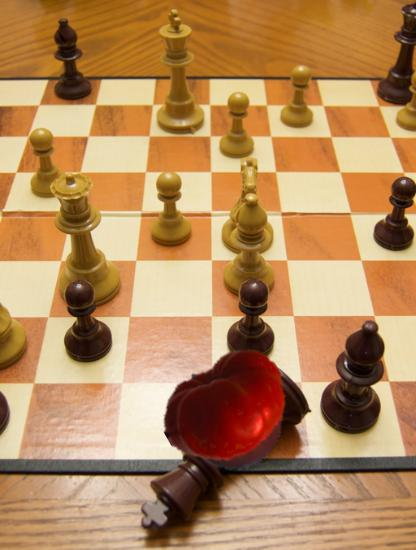Pomegranate: (174, 360, 286, 472)
Tomato: (161, 344, 292, 475)
